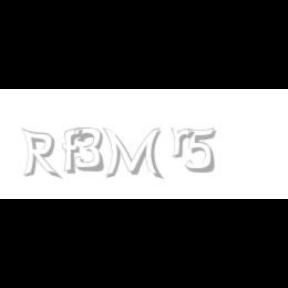3: (74, 128, 106, 172)
5: (184, 128, 216, 174)
M: (102, 128, 162, 180)
R: (21, 128, 59, 180)
f: (62, 128, 86, 174)
r: (170, 128, 198, 158)
